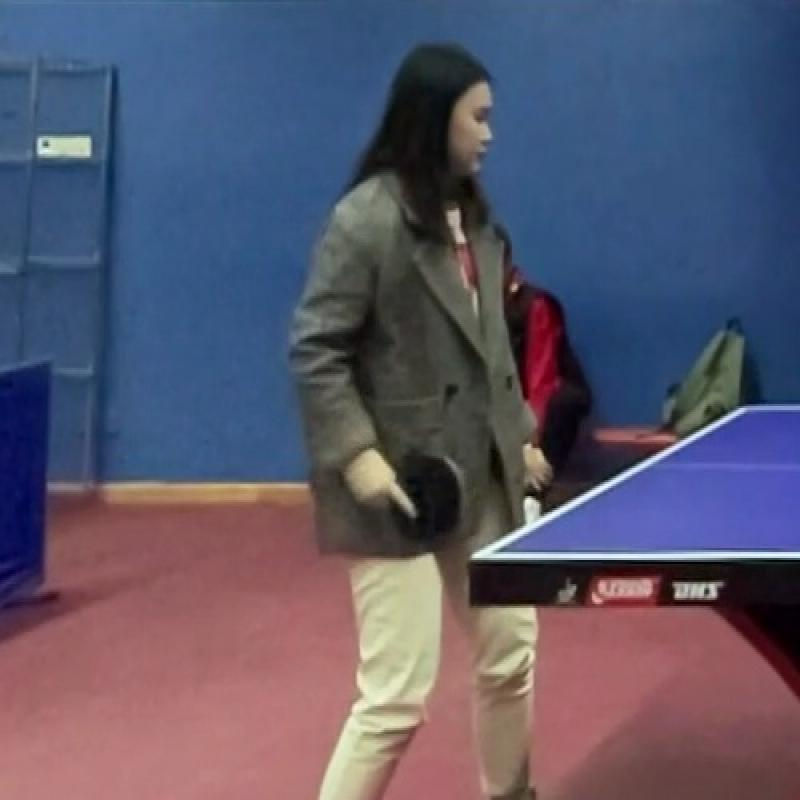bats: (375, 434, 475, 560)
